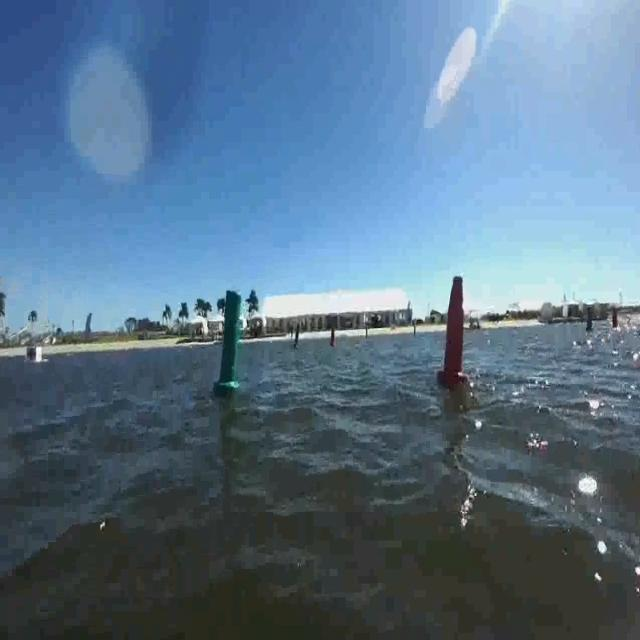green-column-buoy: (215, 289, 245, 393)
red-column-buoy: (440, 269, 471, 387)
